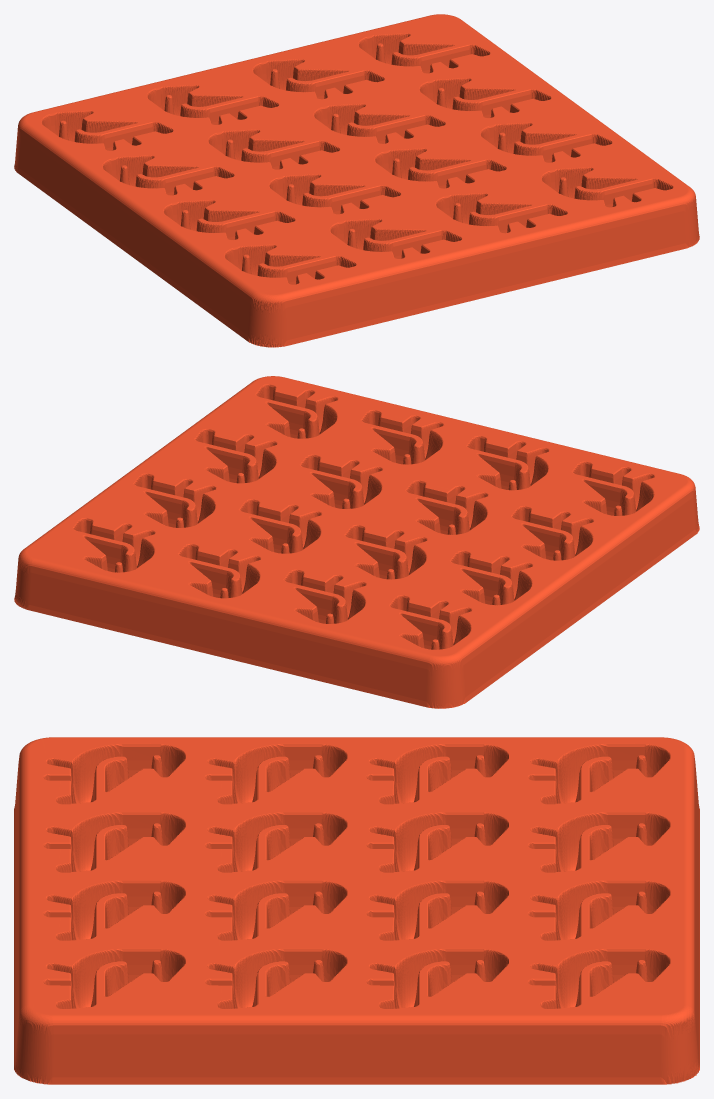
Rendered from mold.glb.
3 renders of one model, top to bottom at view 1: azimuth 30°, elevation 25°; view 2: azimuth 150°, elevation 25°; view 3: azimuth 270°, elevation 25°, orthographic. The views are drawn at different scales.
Parts seen in each view (by area): view 1: geometry_0; view 2: geometry_0; view 3: geometry_0.
Boxes of the visible parts, x1,y1,x2,y2 form: geometry_0: (14, 14, 699, 347); geometry_0: (14, 376, 699, 708); geometry_0: (14, 737, 699, 1084).
Size of the model in its own units: 0.1569 by 0.0159 by 0.1569.
